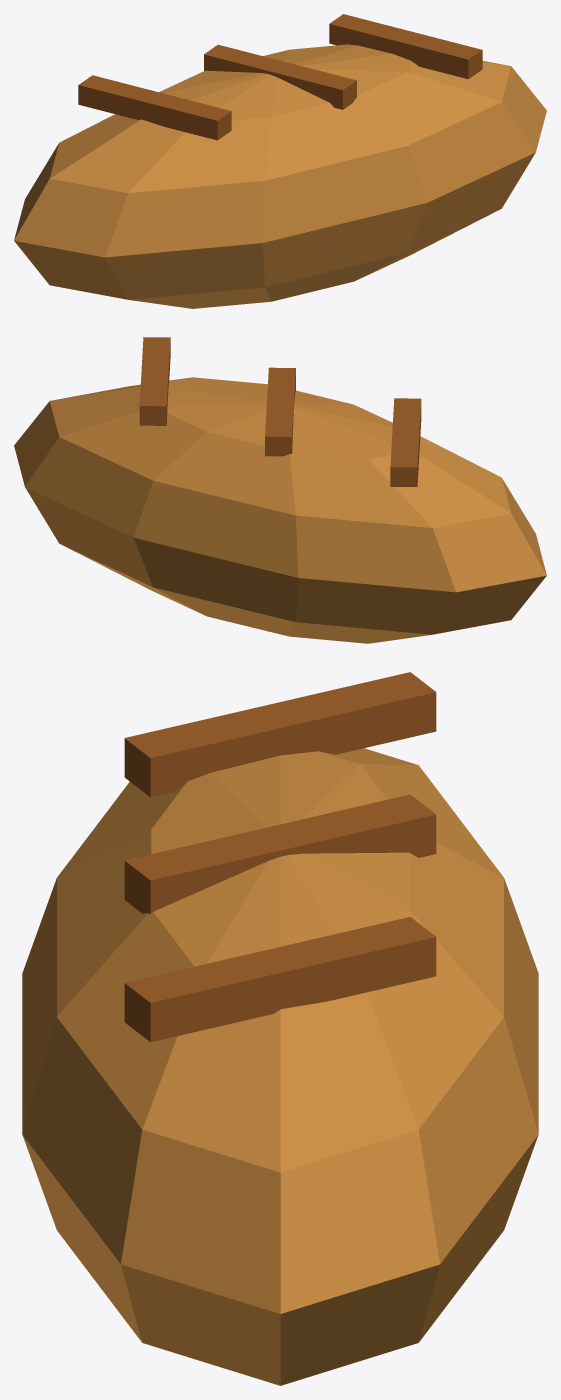
The model's file is bread_loaf.glb.
3 views of the same model, one above another, from view 1: azimuth 30°, elevation 25°; view 2: azimuth 150°, elevation 25°; view 3: azimuth 270°, elevation 25° (orthographic). The views are drawn at different scales.
Parts seen in each view (by area): view 1: loaf_crust, loaf_crust_cut (×3); view 2: loaf_crust, loaf_crust_cut (×3); view 3: loaf_crust, loaf_crust_cut (×3).
Part boxes in pixels (x1=…): loaf_crust: x1=14, y1=44, x2=546, y2=308; loaf_crust_cut (×3): x1=78, y1=14, x2=482, y2=140; loaf_crust: x1=14, y1=377, x2=546, y2=643; loaf_crust_cut (×3): x1=139, y1=337, x2=421, y2=486; loaf_crust: x1=22, y1=748, x2=538, y2=1385; loaf_crust_cut (×3): x1=124, y1=672, x2=436, y2=1042.
Size of the model in its own units: 0.34 by 0.131 by 0.1427.
